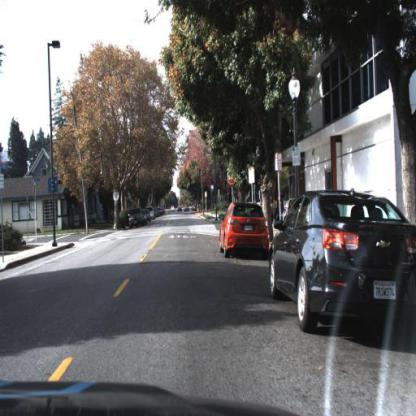car: (266, 184, 416, 344), (217, 197, 273, 261), (128, 207, 146, 231), (145, 208, 152, 223), (145, 208, 151, 224), (152, 206, 157, 223)
pedestrian: (275, 189, 289, 250), (276, 197, 288, 232), (287, 198, 297, 214), (289, 199, 293, 212)
